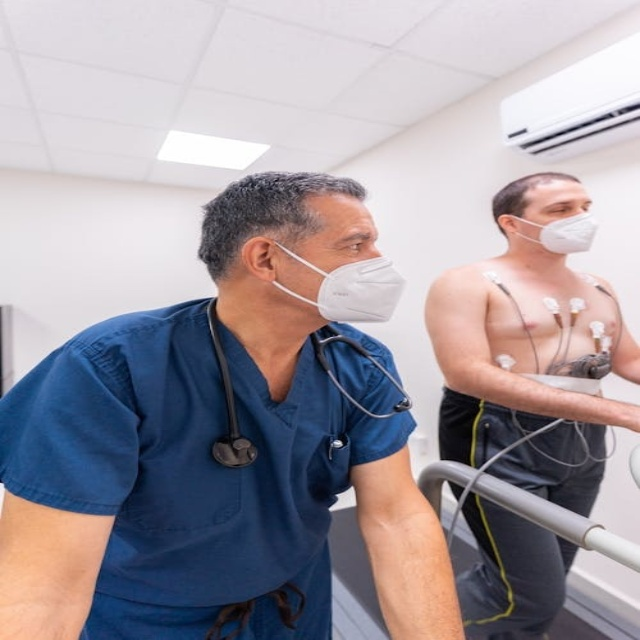Mascara: (272, 239, 408, 325), (514, 211, 597, 254)
Sin_gafas: (307, 227, 383, 258), (524, 196, 596, 215)
